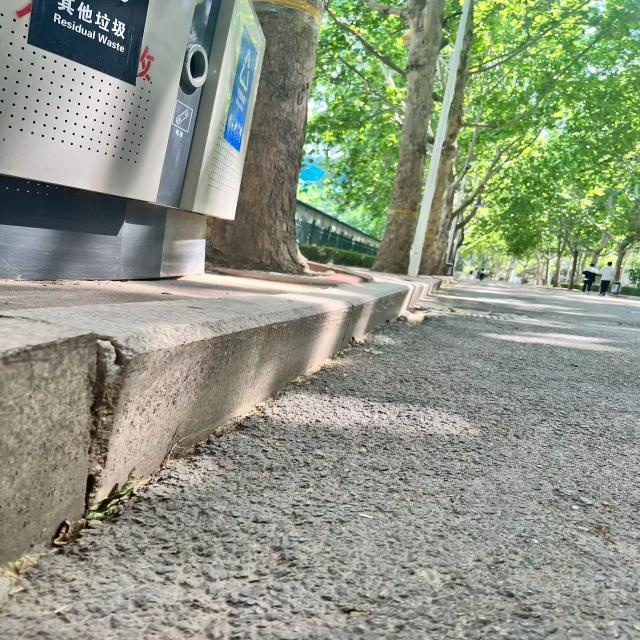curb: (1, 280, 443, 572)
